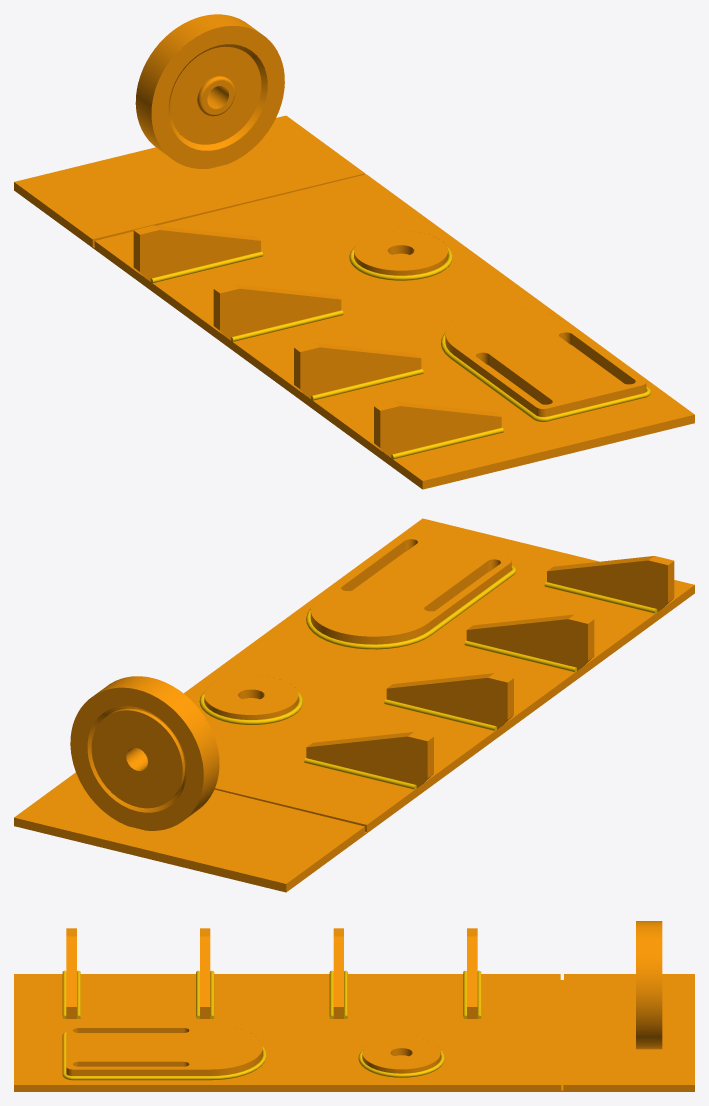
The model's file is gongjian1.fbx.
3 views of the same model, one above another, from view 1: azimuth 30°, elevation 25°; view 2: azimuth 150°, elevation 25°; view 3: azimuth 270°, elevation 25° (orthographic). The views are drawn at different scales.
Visible parts, largest first — view 1: gongjian1; view 2: gongjian1; view 3: gongjian1.
Boxes of the visible parts, box(x1,y1,x2,y2) form: gongjian1: box(14, 14, 694, 489); gongjian1: box(14, 518, 694, 892); gongjian1: box(14, 921, 694, 1091).
Size of the model in its own units: 208 by 520 by 104.
